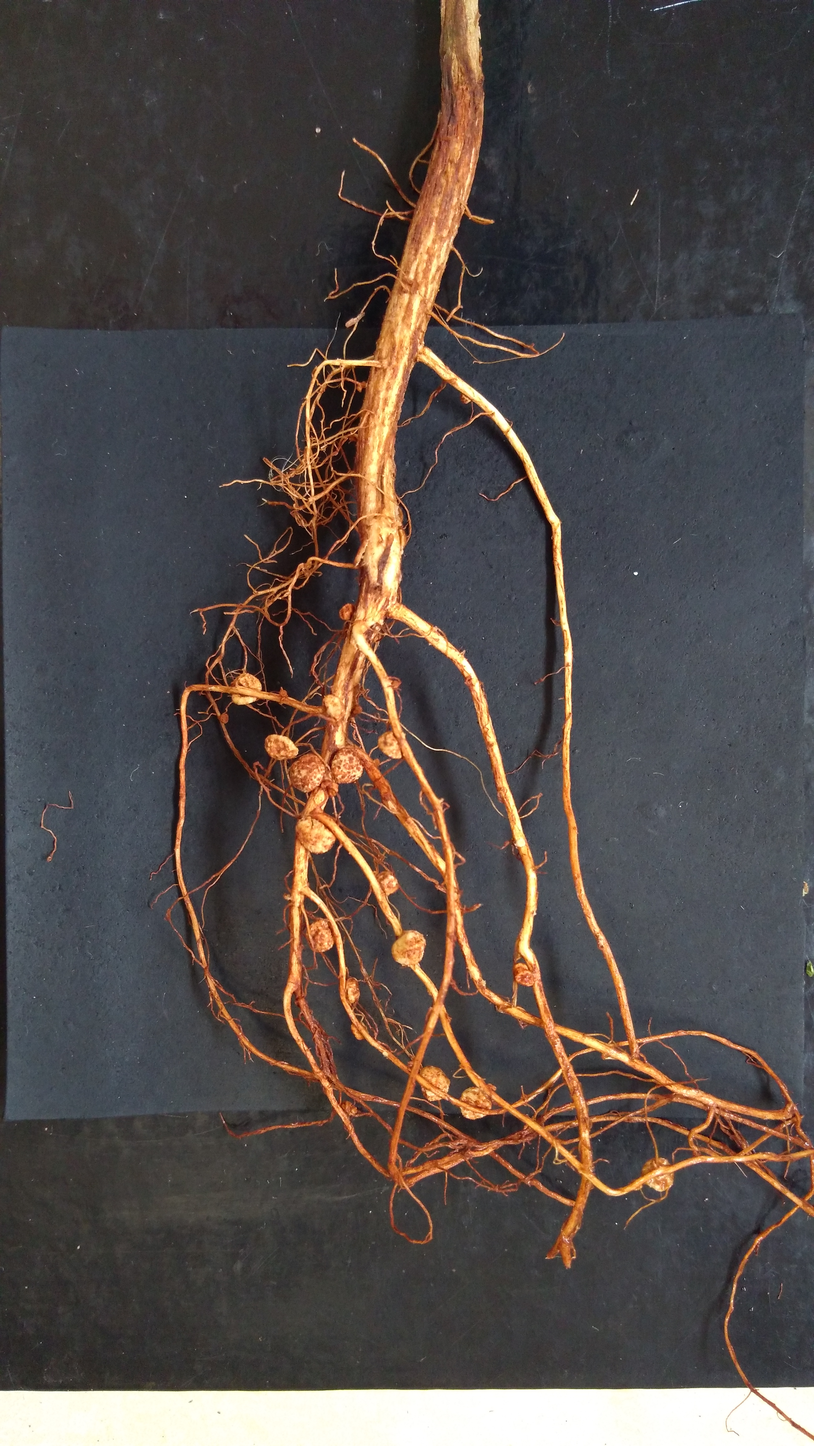nodule: (291, 814, 342, 856), (416, 1061, 454, 1107), (643, 1153, 682, 1195), (288, 752, 326, 794), (390, 927, 428, 968), (457, 1085, 494, 1123), (331, 747, 364, 786), (228, 671, 264, 706), (305, 918, 336, 955), (263, 733, 299, 762), (508, 957, 538, 990), (373, 868, 402, 900), (376, 730, 404, 761), (320, 692, 344, 723), (345, 974, 362, 1011), (349, 1016, 371, 1043), (336, 601, 358, 622), (219, 712, 230, 726), (278, 689, 289, 700)
